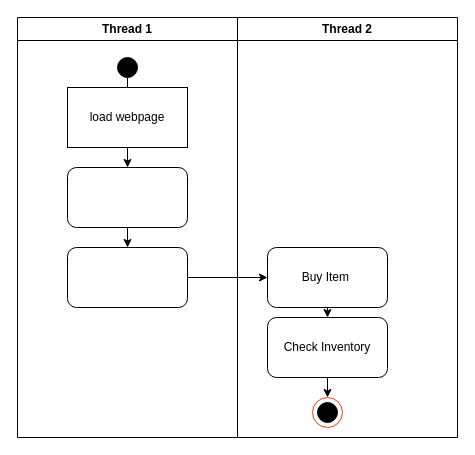
Image size: 475x455. Some labels were removed from this diagram. Each missing label, with the centre of its shape:
Choose user: pixel 127 197
Enter Store: pixel 127 277
